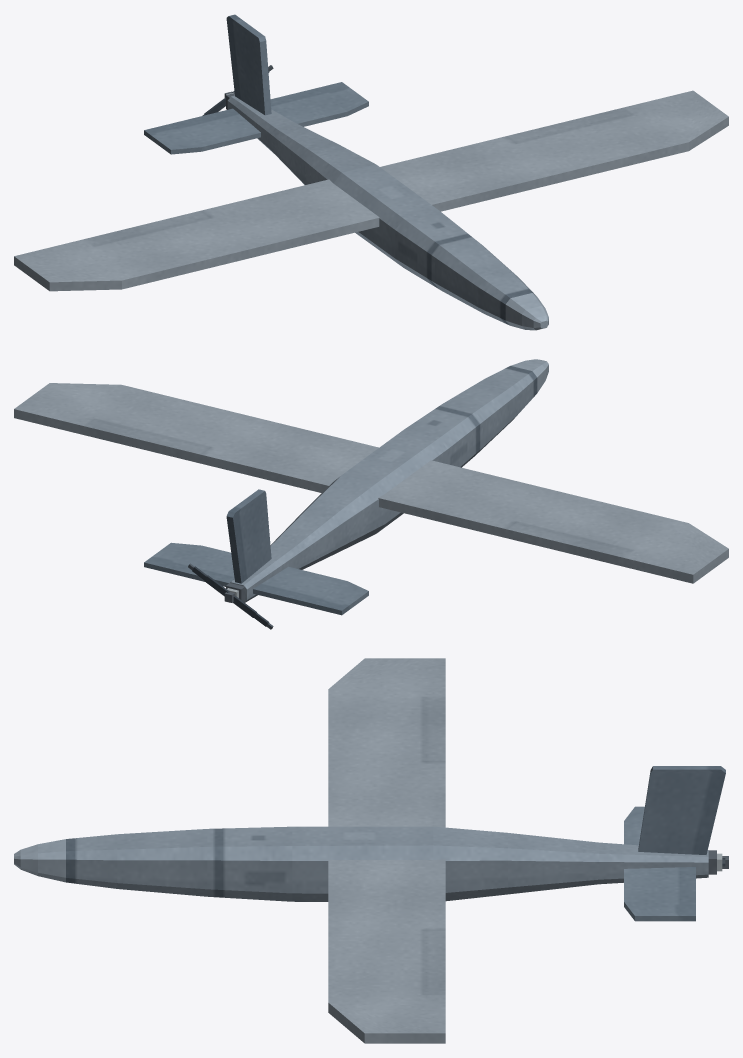
File: hornet.glb
The picture shows the model from 3 angles, top to bottom: view 1: azimuth 30°, elevation 25°; view 2: azimuth 150°, elevation 25°; view 3: azimuth 270°, elevation 25°; orthographic projection. The views are drawn at different scales.
Visible parts, largest first — view 1: airframe; view 2: airframe, propeller; view 3: airframe.
Part boxes in pixels (x1,y1,x2,y2): airframe: [14, 14, 728, 330]; airframe: [14, 359, 728, 615]; propeller: [188, 563, 273, 629]; airframe: [14, 658, 728, 1043].
Size of the model in its own units: 3.67 by 0.571 by 2.95.
Materials: 2 (2 with a texture image).
